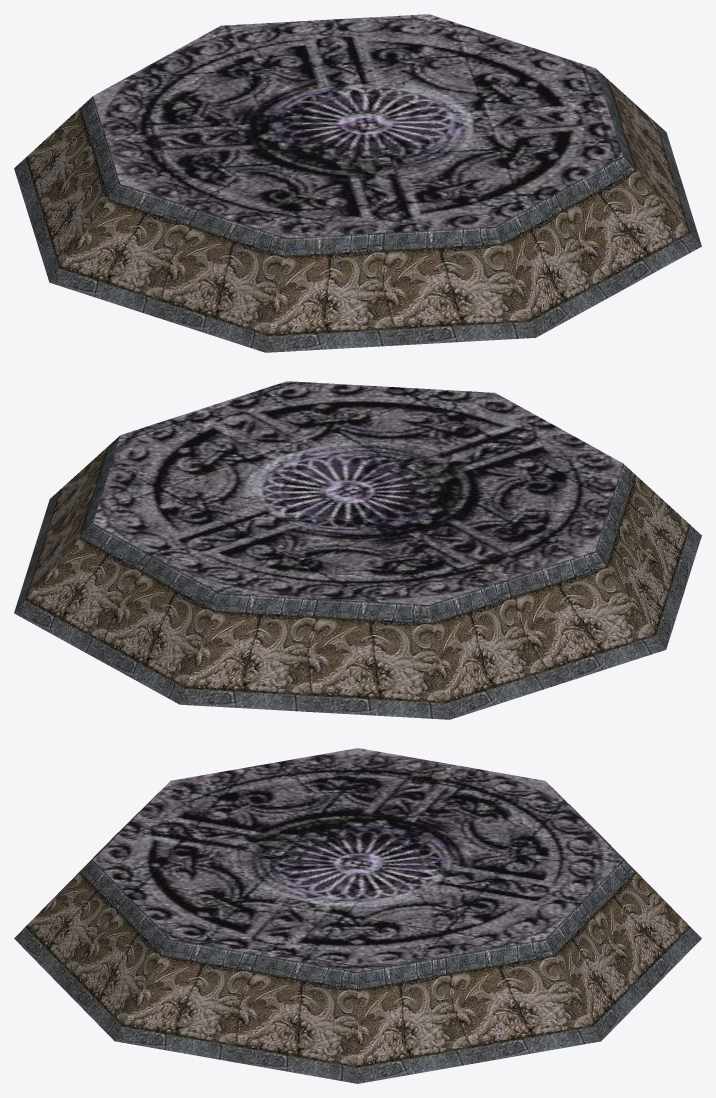
3 renders of one model, top to bottom at view 1: azimuth 30°, elevation 25°; view 2: azimuth 150°, elevation 25°; view 3: azimuth 270°, elevation 25°, orthographic. The views are drawn at different scales.
Parts seen in each view (by area): view 1: PP01; view 2: PP01; view 3: PP01.
Boxes of the visible parts, <box> form: PP01: <box>14,14,701,352</box>; PP01: <box>14,381,701,719</box>; PP01: <box>14,748,701,1083</box>.
Bounding box in the file's own units: 40 × 5.04 × 40.
